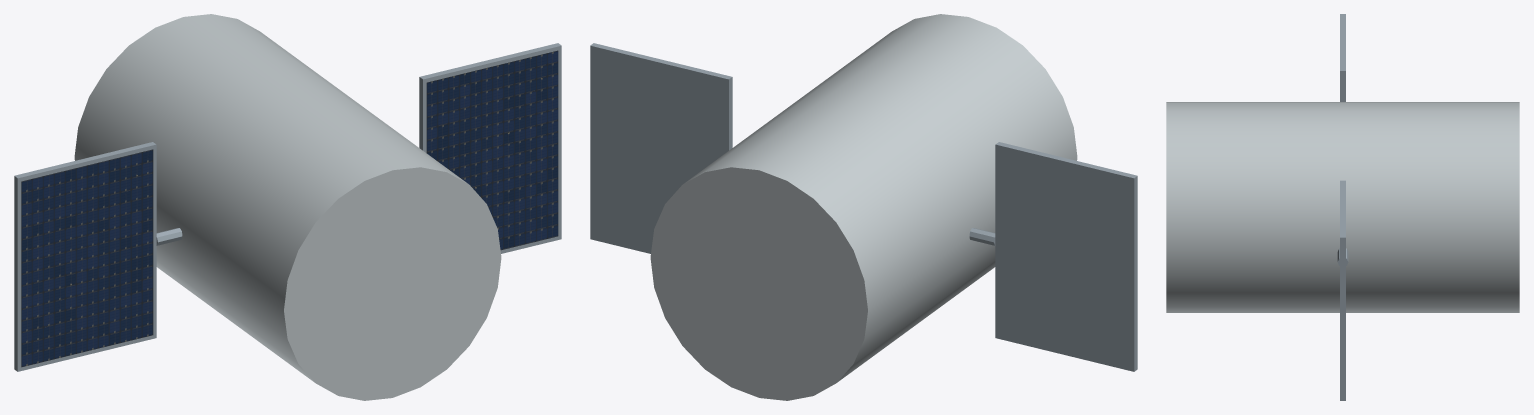
The model's file is ref-omega-1-567.glb.
The picture shows the model from 3 angles, left to right: view 1: azimuth 30°, elevation 25°; view 2: azimuth 150°, elevation 25°; view 3: azimuth 270°, elevation 25°; orthographic projection. The views are drawn at different scales.
Parts seen in each view (by area): view 1: Spacecraft body, Photovoltaic laminates (×2), Array frame (×2); view 2: Spacecraft body, Array frame (×2); view 3: Spacecraft body, Array frame (×2).
Boxes of the visible parts, x1,y1,x2,y2 form: Spacecraft body: (74,14,501,400); Photovoltaic laminates (×2): (21,50,558,367); Array frame (×2): (14,43,561,371); Spacecraft body: (650,14,1077,400); Array frame (×2): (590,43,1137,371); Spacecraft body: (1166,102,1519,312); Array frame (×2): (1340,14,1345,400).
Bounding box in the file's own units: 3 × 1.2 × 2.
3 materials, 1 textured.
